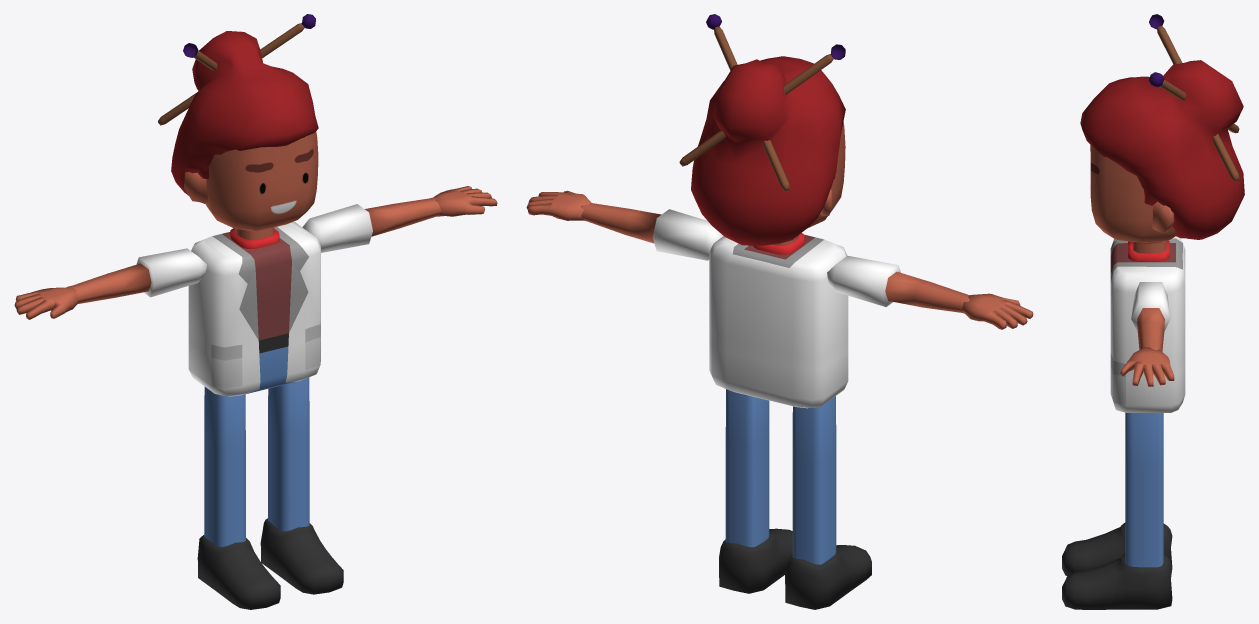
Rendered from NPC_Black02_RedHair03.gltf.
3 views of the same model, side by side, from view 1: azimuth 30°, elevation 25°; view 2: azimuth 150°, elevation 25°; view 3: azimuth 270°, elevation 25° (orthographic). The views are drawn at different scales.
Parts seen in each view (by area): view 1: NPC_Corpo_Black2_RedHair.003; view 2: NPC_Corpo_Black2_RedHair.003; view 3: NPC_Corpo_Black2_RedHair.003.
Part boxes in pixels (x1,y1,x2,y2): NPC_Corpo_Black2_RedHair.003: (14,14,497,609); NPC_Corpo_Black2_RedHair.003: (526,14,1033,609); NPC_Corpo_Black2_RedHair.003: (1062,14,1244,609).
Bounding box in the file's own units: 2.31 × 2.5 × 0.7676.
Materials: 1 (1 with a texture image).
